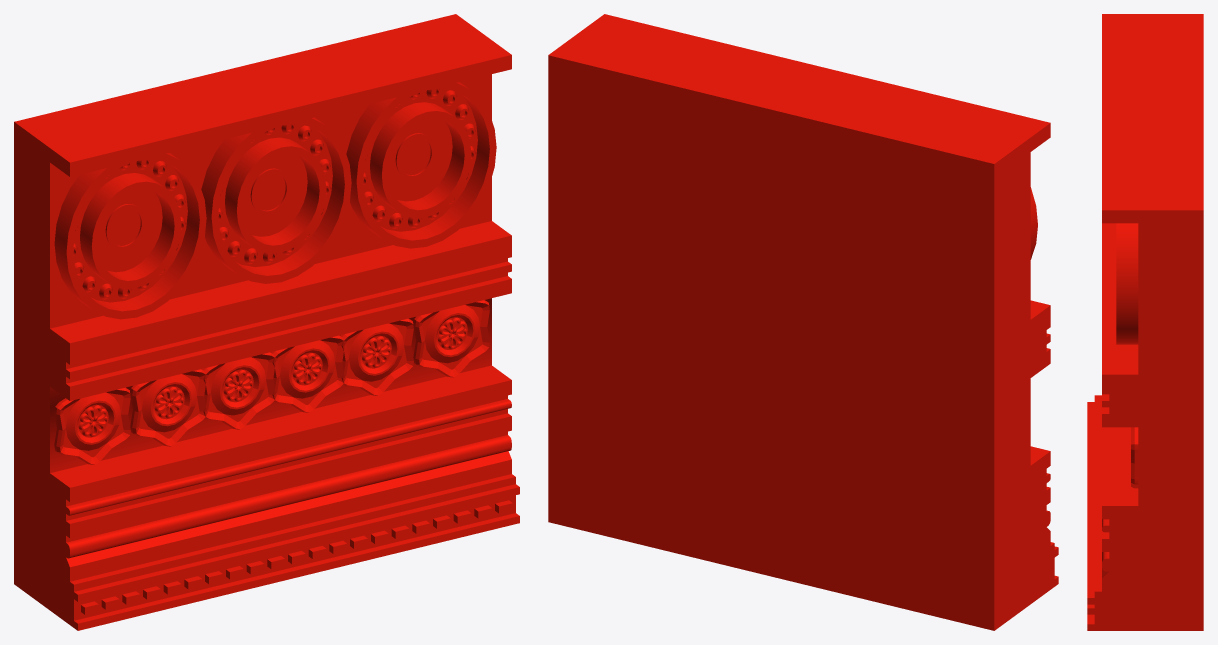
The model's file is murbas1.FBX.
3 renders of one model, left to right at view 1: azimuth 30°, elevation 25°; view 2: azimuth 150°, elevation 25°; view 3: azimuth 270°, elevation 25°, orthographic. The views are drawn at different scales.
Visible parts, largest first — view 1: Box013; view 2: Box013; view 3: Box013.
Part boxes in pixels (bbox=[...]): Box013: bbox=[14, 14, 519, 630]; Box013: bbox=[548, 14, 1058, 630]; Box013: bbox=[1087, 14, 1203, 630].
Bounding box in the file's own units: 256 × 256 × 64.
